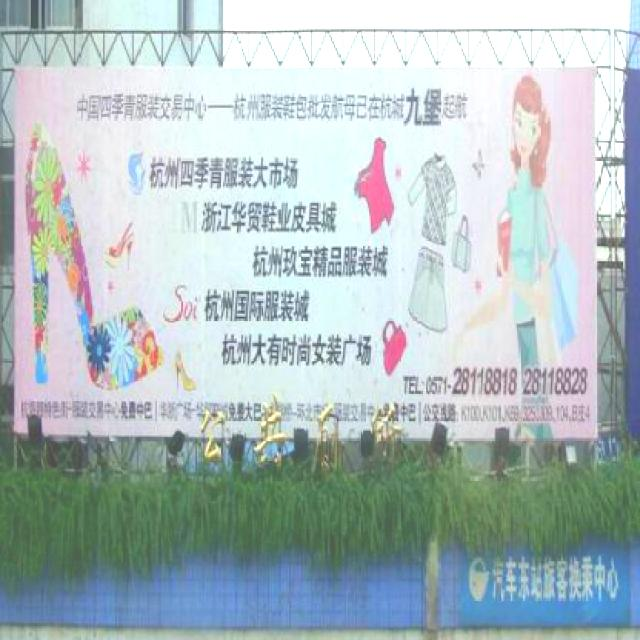Person: (504, 57, 562, 360)
